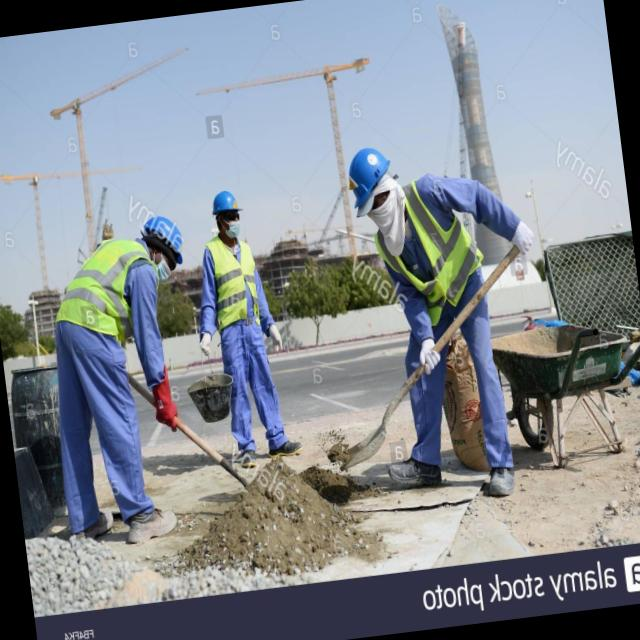helmet: (342, 146, 394, 212), (144, 214, 188, 266), (212, 188, 238, 211)
vest: (382, 174, 476, 313), (50, 240, 156, 338), (209, 237, 261, 331)
